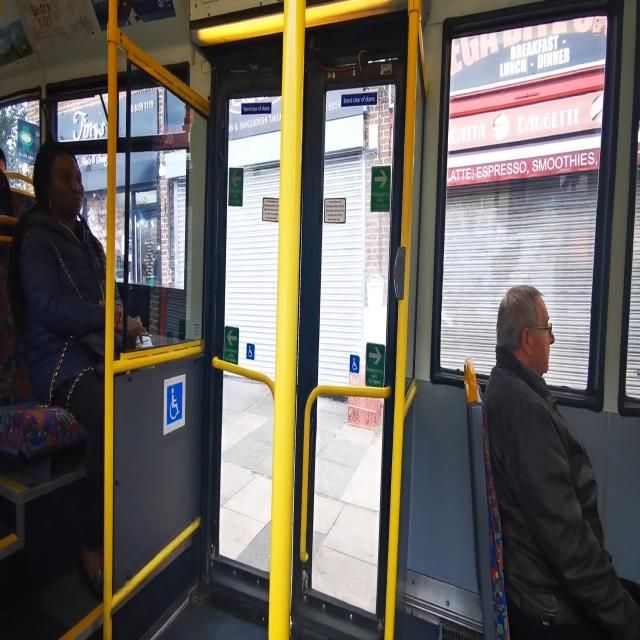bus-door: (193, 33, 401, 640)
